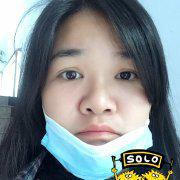WRONG: (44, 46, 152, 174)
